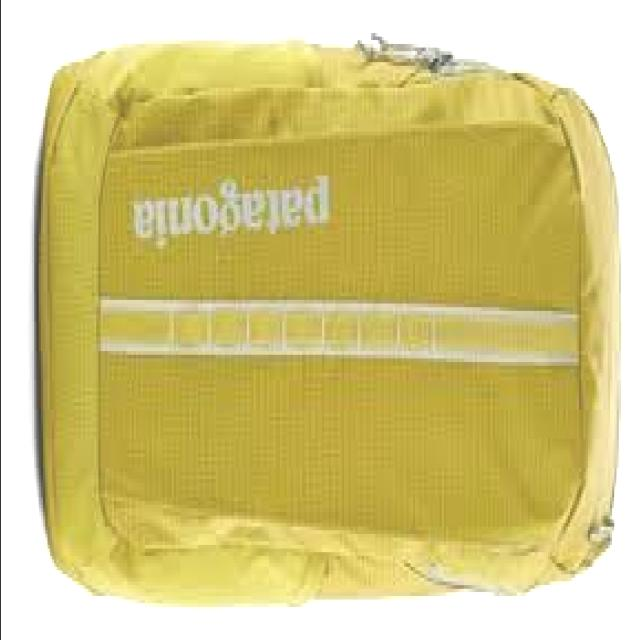backpack: (39, 34, 623, 608)
